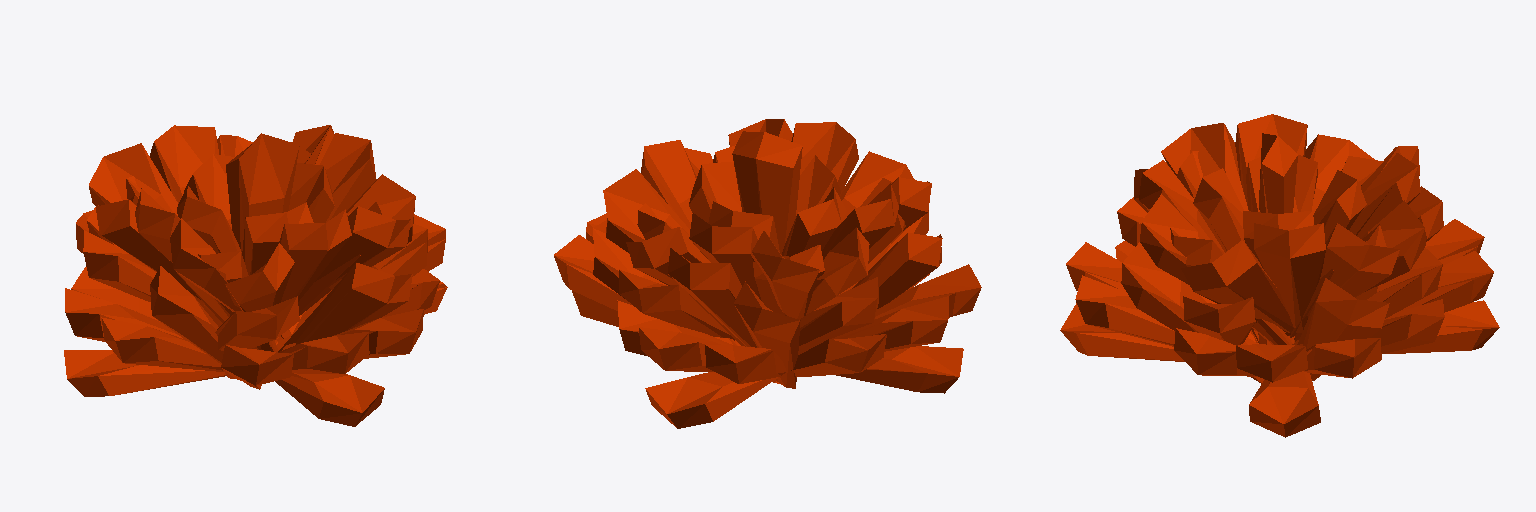
Rendered from semp.obj.
3 renders of one model, left to right at view 1: azimuth 30°, elevation 25°; view 2: azimuth 150°, elevation 25°; view 3: azimuth 270°, elevation 25°, orthographic.
Parts seen in each view (by area): view 1: Cube.003; view 2: Cube.003; view 3: Cube.003.
Part boxes in pixels (left/top/right/bottom): Cube.003: left=64, top=125, right=447, bottom=426; Cube.003: left=554, top=119, right=981, bottom=428; Cube.003: left=1060, top=114, right=1499, bottom=437.
Size of the model in its own units: 5.85 by 3.59 by 5.85.